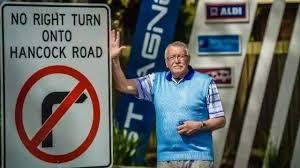no_right_turn: (13, 63, 101, 162)
